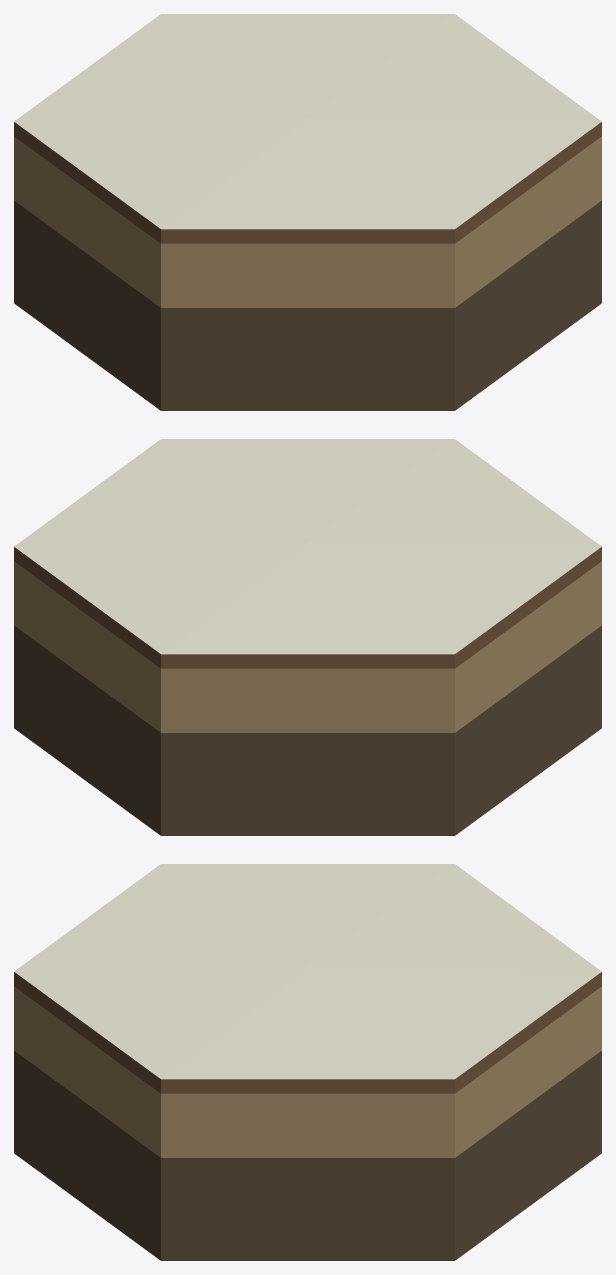
Rendered from AW-HEX-SNOW-v0.1.glb.
3 views of the same model, one above another, from view 1: azimuth 30°, elevation 25°; view 2: azimuth 150°, elevation 25°; view 3: azimuth 270°, elevation 25° (orthographic).
Parts seen in each view (by area): view 1: AW-HEX-SNOW-v01; view 2: AW-HEX-SNOW-v01; view 3: AW-HEX-SNOW-v01.
Boxes of the visible parts, bbox=[...] form: AW-HEX-SNOW-v01: bbox=[14, 14, 601, 410]; AW-HEX-SNOW-v01: bbox=[14, 439, 601, 835]; AW-HEX-SNOW-v01: bbox=[14, 864, 601, 1260].
Bounding box in the file's own units: 3.81 × 1.54 × 4.4.
